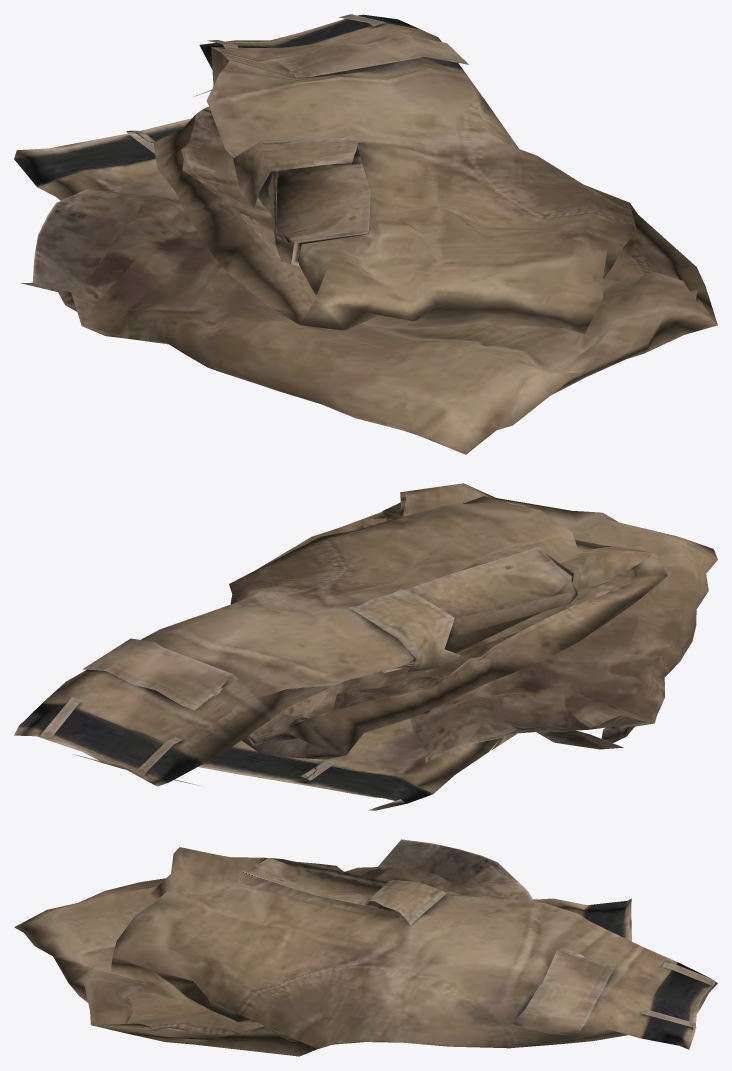
Rendered from bdu.pants.worldmodel.glb.
3 views of the same model, one above another, from view 1: azimuth 30°, elevation 25°; view 2: azimuth 150°, elevation 25°; view 3: azimuth 270°, elevation 25° (orthographic). The views are drawn at different scales.
Parts seen in each view (by area): view 1: BDU_Trousers_WM_LOD0; view 2: BDU_Trousers_WM_LOD0; view 3: BDU_Trousers_WM_LOD0.
Boxes of the visible parts, box(x1,y1,x2,y2) form: BDU_Trousers_WM_LOD0: box(14, 14, 717, 454); BDU_Trousers_WM_LOD0: box(14, 483, 717, 810); BDU_Trousers_WM_LOD0: box(14, 839, 717, 1056).
Size of the model in its own units: 0.4265 by 0.0757 by 0.6248.
Materials: 1 (1 with a texture image).
